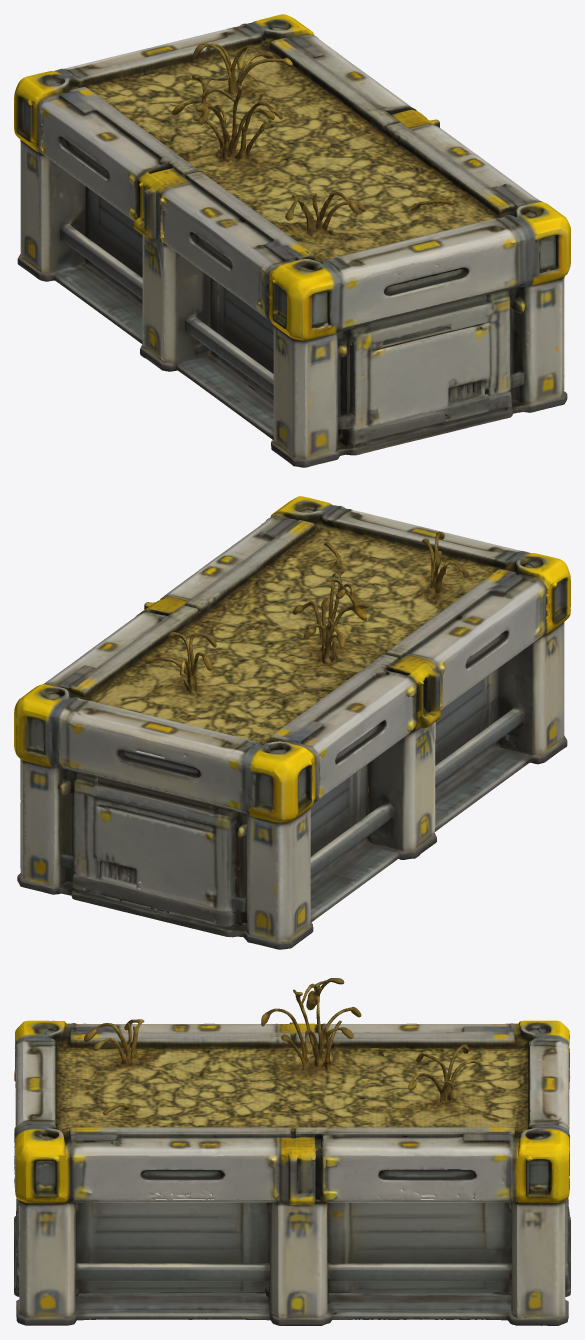
File: planter_dry.glb
The picture shows the model from 3 angles, top to bottom: view 1: azimuth 30°, elevation 25°; view 2: azimuth 150°, elevation 25°; view 3: azimuth 270°, elevation 25°; orthographic projection. The views are drawn at different scales.
Parts seen in each view (by area): view 1: world; view 2: world; view 3: world.
Part boxes in pixels (x1,y1,x2,y2): world: (14, 14, 570, 467); world: (14, 496, 570, 949); world: (14, 978, 570, 1325).
Bounding box in the file's own units: 1.2 × 1.01 × 2.02.
1 material, 1 textured.
